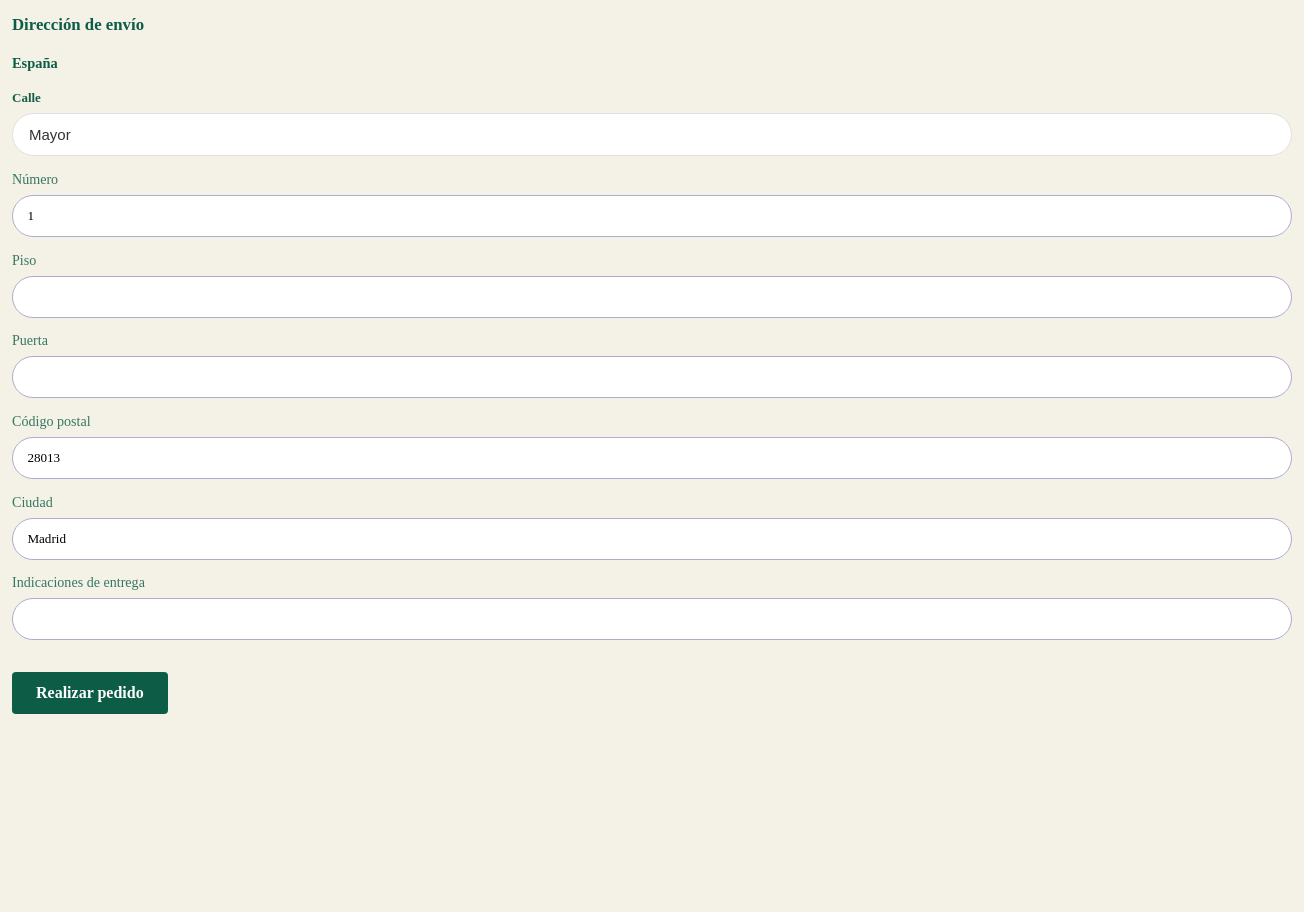
Test: checkout address browser behavior › shows the server Spain-only error and blocks confirmation
Click the button "Realizar pedido".
click(90, 693)  # box [12,672,168,714]
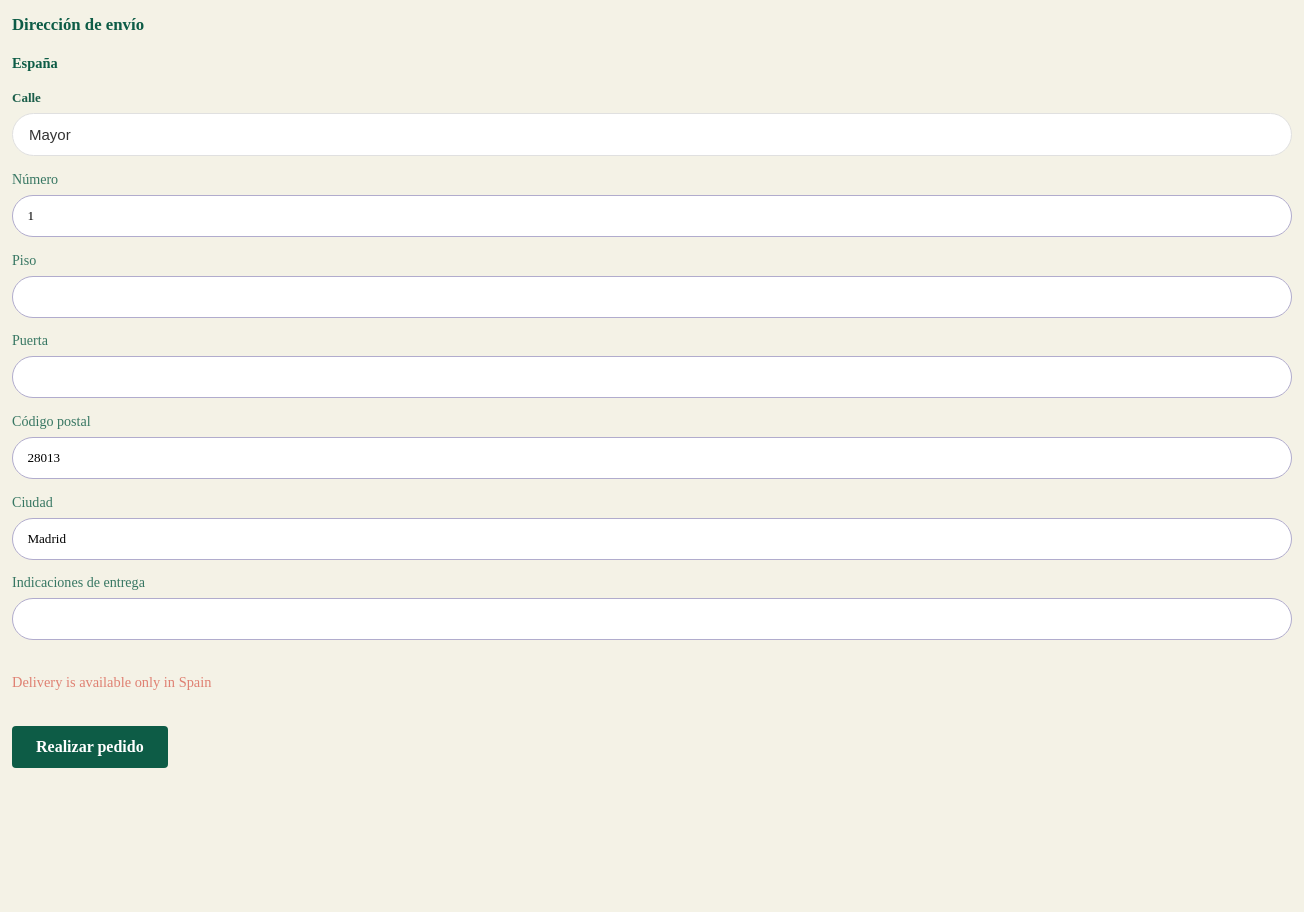
Check: the message shows "only in Spain", box [12,674,211,690]
